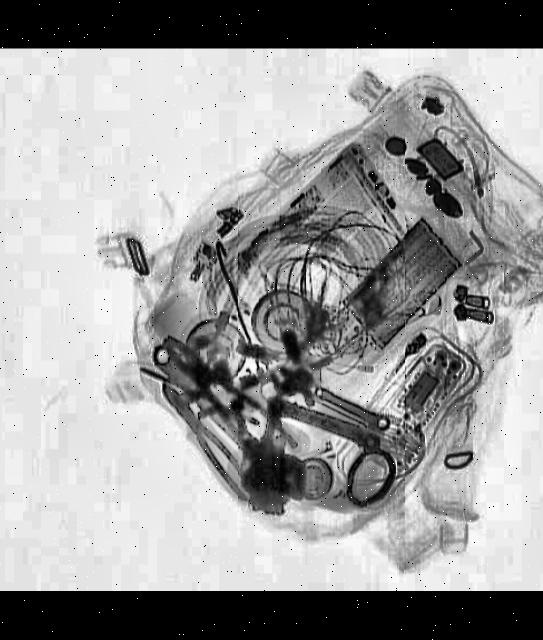Pliers: (151, 380, 264, 507)
Wrench: (132, 332, 321, 520)
